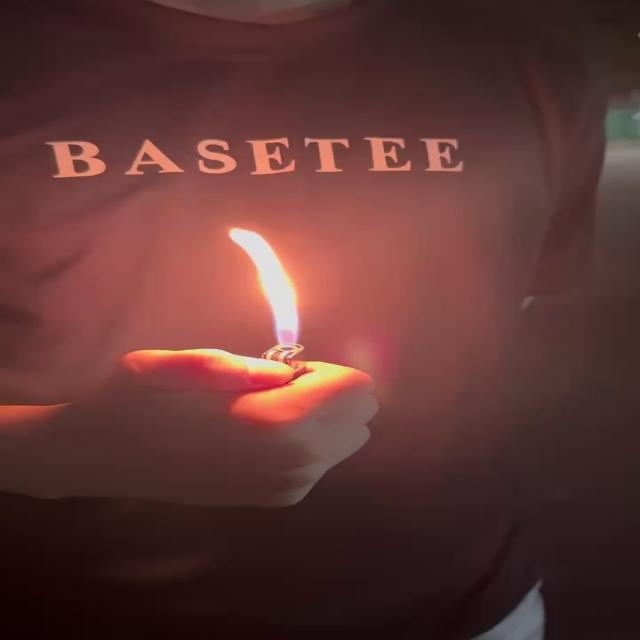Fire: (226, 226, 318, 351)
